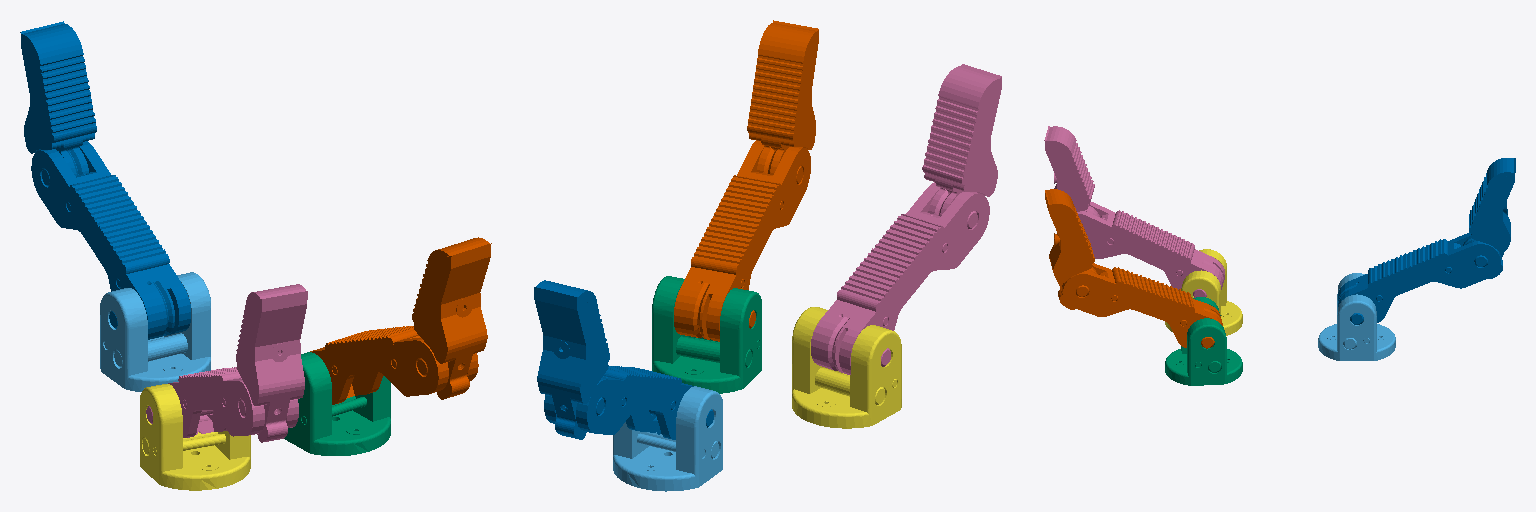
URDF robot description (gripper):
<?xml version="1.0"?>
<robot name="gripper">

  <link name="base_link">
    <visual>
      <geometry>
        <mesh filename="package://wezelROS/description/meshes/base.dae"/>
      </geometry>
      <origin xyz="0 0 0" rpy="1.57 0 3.14"/>
    </visual>
    <collision>
      <geometry>
        <mesh filename="package://wezelROS/description/meshes/base.dae"/>
      </geometry>
      <origin xyz="0 0 0" rpy="1.57 0 3.14"/>
    </collision>
    <inertial>
      <mass value="0.848"/>
      <inertia ixx="2217.529e-6" ixy="24.119e-6" ixz="5.043e-6" iyy="1449.890e-6" iyz="4.511e-6" izz="1974.212e-6" />
      <origin xyz="-0.000161 -0.049378 0.009251" rpy="1.57 0 3.14"/>
    </inertial>
  </link>

  <link name="rotator_link1">
    <visual>
      <geometry>
        <mesh filename="package://wezelROS/description/meshes/finger_rotator.dae"/>
      </geometry>
      <origin xyz="0 0 0" rpy="1.57 0 0"/>
    </visual>
    <collision>
      <geometry>
        <mesh filename="package://wezelROS/description/meshes/finger_rotator.dae"/>
      </geometry>
      <origin xyz="0 0 0" rpy="1.57 0 0"/>
    </collision>
    <inertial>
      <mass value="0.011"/>
      <inertia ixx="1311.602e-9" ixy="0.255e-9" ixz="-0.241e-9" iyy="1755.381e-9" iyz="2.772e-9" izz="1995.622e-9" />
      <origin xyz="0 -0.011 0" rpy="1.57 0 0"/>
    </inertial>
  </link>

  <link name="rotator_link2">
    <visual>
      <geometry>
        <mesh filename="package://wezelROS/description/meshes/finger_rotator.dae"/>
      </geometry>
      <origin xyz="0 0 0" rpy="1.57 0 3.14"/>
    </visual>
    <collision>
      <geometry>
        <mesh filename="package://wezelROS/description/meshes/finger_rotator.dae"/>
      </geometry>
      <origin xyz="0 0 0" rpy="1.57 0 3.14"/>
    </collision>
    <inertial>
      <mass value="0.011"/>
      <inertia ixx="1311.602e-9" ixy="0.255e-9" ixz="-0.241e-9" iyy="1755.381e-9" iyz="2.772e-9" izz="1995.622e-9" />
      <origin xyz="0 -0.011 0" rpy="1.57 0 3.14"/>
    </inertial>
  </link>

  <link name="rotator_link3">
    <visual>
      <geometry>
        <mesh filename="package://wezelROS/description/meshes/finger_rotator.dae"/>
      </geometry>
      <origin xyz="0 0 0" rpy="1.57 0 3.14"/>
    </visual>
    <collision>
      <geometry>
        <mesh filename="package://wezelROS/description/meshes/finger_rotator.dae"/>
      </geometry>
      <origin xyz="0 0 0" rpy="1.57 0 3.14"/>
    </collision>
    <inertial>
      <mass value="0.011"/>
      <inertia ixx="1311.602e-9" ixy="0.255e-9" ixz="-0.241e-9" iyy="1755.381e-9" iyz="2.772e-9" izz="1995.622e-9" />
      <origin xyz="0 -0.011 0" rpy="1.57 0 3.14"/>
    </inertial>
  </link>

  <link name="finger_link1">
    <visual>
      <geometry>
        <mesh filename="package://wezelROS/description/meshes/finger.dae"/>
      </geometry>
      <origin xyz="0 0 0" rpy="1.57 0 0"/>
    </visual>
    <collision>
      <geometry>
        <mesh filename="package://wezelROS/description/meshes/finger.dae"/>
      </geometry>
      <origin xyz="0 0 0" rpy="1.57 0 0"/>
    </collision>
    <inertial>
      <mass value="0.025"/>
      <inertia ixx="24129.897e-9" ixy="20.567e-9" ixz="-19.892e-9" iyy="15358.976e-9" iyz="9658.972e-9" izz="10037.821e-9" />
      <origin xyz="0 0.028 -0.042" rpy="1.57 0 0"/>
    </inertial>
  </link>

  <link name="finger_link2">
    <visual>
      <geometry>
        <mesh filename="package://wezelROS/description/meshes/finger.dae"/>
      </geometry>
      <origin xyz="0 0 0" rpy="1.57 0 3.14"/>
    </visual>
    <collision>
      <geometry>
        <mesh filename="package://wezelROS/description/meshes/finger.dae"/>
      </geometry>
      <origin xyz="0 0 0" rpy="1.57 0 3.14"/>
    </collision>
    <inertial>
      <mass value="0.025"/>
      <inertia ixx="24129.897e-9" ixy="20.567e-9" ixz="-19.892e-9" iyy="15358.976e-9" iyz="9658.972e-9" izz="10037.821e-9" />
      <origin xyz="0 0.028 -0.042" rpy="1.57 0 3.14"/>
    </inertial>
  </link>

  <link name="finger_link3">
    <visual>
      <geometry>
        <mesh filename="package://wezelROS/description/meshes/finger.dae"/>
      </geometry>
      <origin xyz="0 0 0" rpy="1.57 0 3.14"/>
    </visual>
    <collision>
      <geometry>
        <mesh filename="package://wezelROS/description/meshes/finger.dae"/>
      </geometry>
      <origin xyz="0 0 0" rpy="1.57 0 3.14"/>
    </collision>
    <inertial>
      <mass value="0.025"/>
      <inertia ixx="24129.897e-9" ixy="20.567e-9" ixz="-19.892e-9" iyy="15358.976e-9" iyz="9658.972e-9" izz="10037.821e-9" />
      <origin xyz="0 0.028 -0.042" rpy="1.57 0 3.14"/>
    </inertial>
  </link>

  <joint name="rotator1" type="fixed">
    <parent link="base_link"/>
    <child link="rotator_link1"/>
    <axis xyz="0 0 1"/>
    <origin xyz="0 0.04 0.021352"/>
  </joint>

  <joint name="rotator2" type="continuous">
    <parent link="base_link"/>
    <child link="rotator_link2"/>
    <axis xyz="0 0 1"/>
    <origin xyz="0.026 -0.030397 0.021352" rpy="0 0 0.1185"/>
    <limit lower="-1.57" upper="1.57" effort="30" velocity="5"/>
  </joint>

  <joint name="rotator3" type="continuous">
    <parent link="base_link"/>
    <child link="rotator_link3"/>
    <axis xyz="0 0 1"/>
    <origin xyz="-0.026 -0.030397 0.021352" rpy="0 0 -0.1185"/>
    <limit lower="-1.57" upper="1.57" effort="30" velocity="5"/>
    <mimic joint="rotator2" multiplier="-1"/>
  </joint>

  <joint name="finger1" type="revolute">
    <parent link="rotator_link1"/>
    <child link="finger_link1"/>
    <axis xyz="1 0 0"/>
    <origin xyz="0 0 0"/>
    <limit lower="-1" upper="1.57" effort="30" velocity="5"/>
  </joint>

  <joint name="finger2" type="revolute">
    <parent link="rotator_link2"/>
    <child link="finger_link2"/>
    <axis xyz="1 0 0"/>
    <origin xyz="0 0 0"/>
    <limit lower="-1.57" upper="1" effort="30" velocity="5"/>
  </joint>

  <joint name="finger3" type="revolute">
    <parent link="rotator_link3"/>
    <child link="finger_link3"/>
    <axis xyz="1 0 0"/>
    <origin xyz="0 0 0"/>
    <limit lower="-1.57" upper="1" effort="30" velocity="5"/>
  </joint>

</robot>

--- Render facts (derived) ---
Views: 3 orthographic renders of the robot side by side, from view 1: azimuth 30°, elevation 25°; view 2: azimuth 150°, elevation 25°; view 3: azimuth 270°, elevation 25°.
Model gripper with 7 links and 6 joints (3 revolute, 2 continuous, 1 fixed), rooted at base_link, posed every joint at zero.
Visible links, largest first — view 1: finger_link1, finger_link2, finger_link3, rotator_link1, rotator_link3, rotator_link2; view 2: finger_link3, finger_link2, finger_link1, rotator_link3, rotator_link2, rotator_link1; view 3: finger_link1, finger_link2, finger_link3, rotator_link1, rotator_link2, rotator_link3.
Link boxes in pixels (<box>): finger_link1: <box>20,21,190,339</box>; finger_link2: <box>310,237,491,404</box>; finger_link3: <box>146,284,307,442</box>; rotator_link1: <box>100,272,210,391</box>; rotator_link3: <box>140,384,250,490</box>; rotator_link2: <box>284,352,390,455</box>; finger_link3: <box>811,64,1001,374</box>; finger_link2: <box>674,20,818,341</box>; finger_link1: <box>534,280,713,439</box>; rotator_link3: <box>792,307,901,428</box>; rotator_link2: <box>652,276,761,393</box>; rotator_link1: <box>613,386,722,491</box>; finger_link1: <box>1338,158,1515,324</box>; finger_link2: <box>1045,189,1222,348</box>; finger_link3: <box>1044,126,1224,297</box>; rotator_link1: <box>1318,273,1395,360</box>; rotator_link2: <box>1165,297,1242,385</box>; rotator_link3: <box>1165,249,1242,335</box>.
Bounding box of the posed robot: 0.0856 × 0.2164 × 0.0934 m (x, y, z).
Meshes: 3 distinct files referenced, 6 mesh visuals loaded (2 Collada DAE); not drawn: 1 (reference not matched to a file when rendering).
